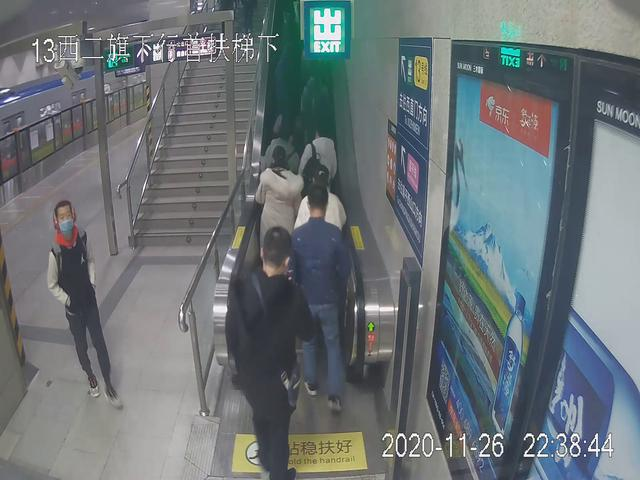person: (229, 222, 322, 468), (284, 182, 372, 414), (45, 196, 126, 411), (253, 144, 309, 276)
